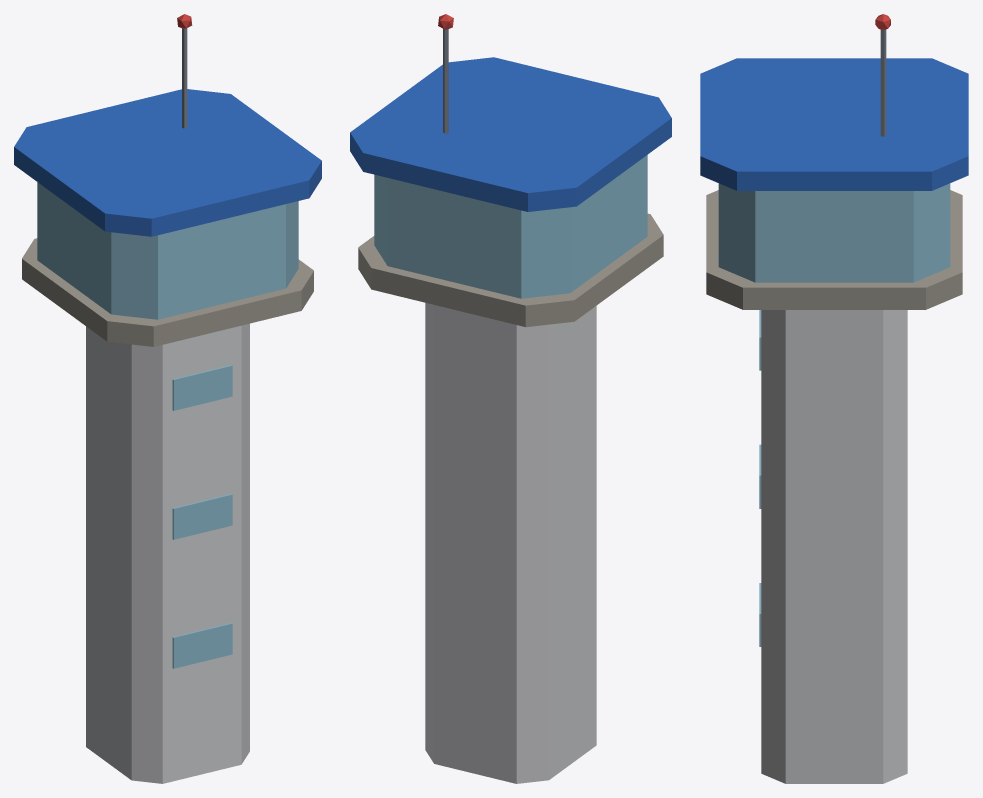
The model's file is control_tower.glb.
3 views of the same model, side by side, from view 1: azimuth 30°, elevation 25°; view 2: azimuth 150°, elevation 25°; view 3: azimuth 270°, elevation 25° (orthographic). The views are drawn at different scales.
Visible parts, largest first — view 1: control_tower; view 2: control_tower; view 3: control_tower.
Part boxes in pixels (bbox=[...]): control_tower: bbox=[14, 14, 321, 783]; control_tower: bbox=[350, 14, 671, 783]; control_tower: bbox=[700, 14, 968, 783].
Bounding box in the file's own units: 4.4 × 13.75 × 4.4.
